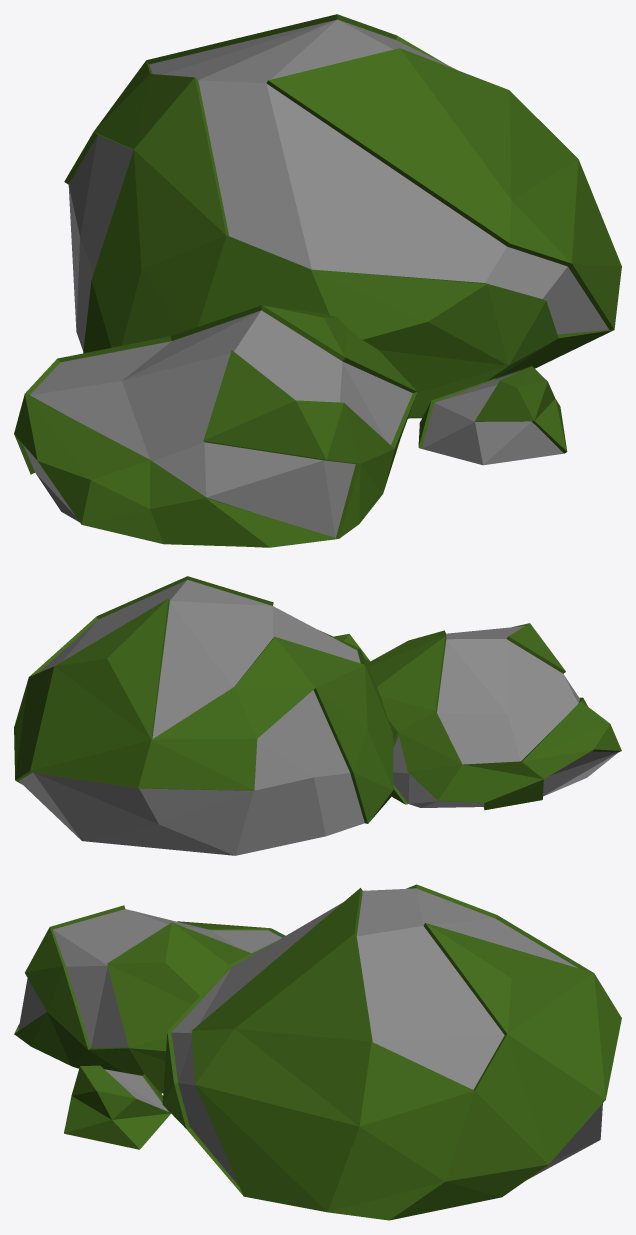
The model's file is stone1.obj.
3 renders of one model, top to bottom at view 1: azimuth 30°, elevation 25°; view 2: azimuth 150°, elevation 25°; view 3: azimuth 270°, elevation 25°, orthographic. The views are drawn at different scales.
Visible parts, largest first — view 1: Stone_group_average_mossy_Icosphere.030; view 2: Stone_group_average_mossy_Icosphere.030; view 3: Stone_group_average_mossy_Icosphere.030.
Boxes of the visible parts, <box> form: Stone_group_average_mossy_Icosphere.030: <box>14,14,621,547</box>; Stone_group_average_mossy_Icosphere.030: <box>14,576,621,855</box>; Stone_group_average_mossy_Icosphere.030: <box>14,884,621,1220</box>.
Size of the model in its own units: 2.97 by 1.15 by 2.93.
